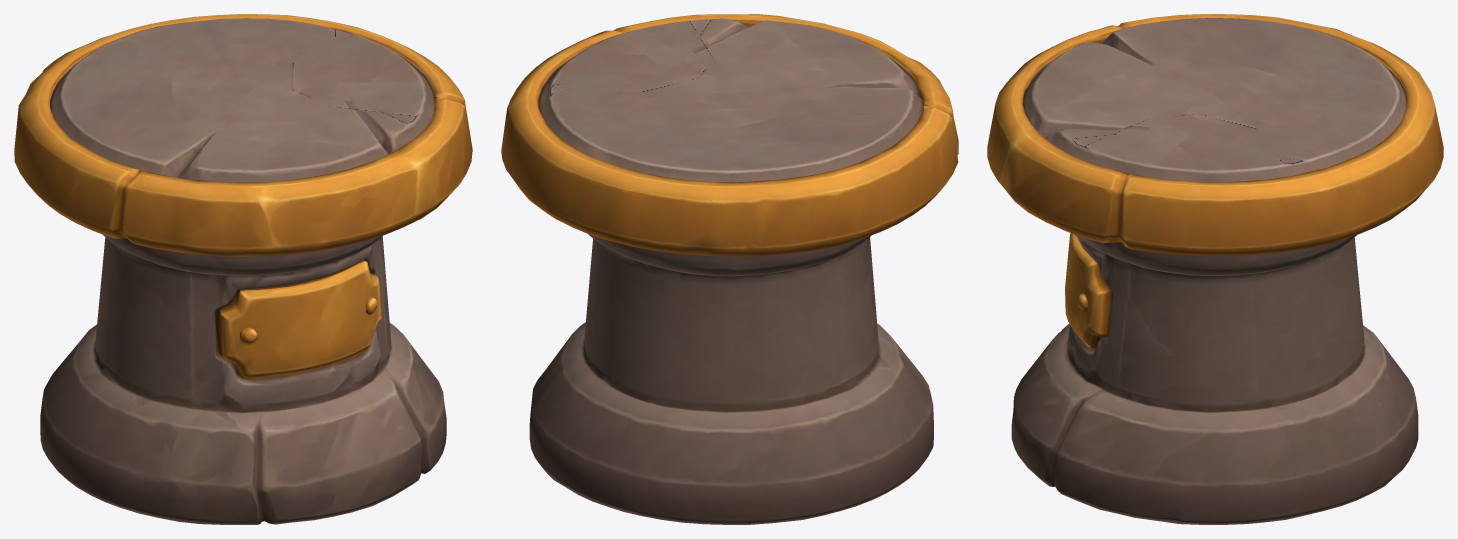
The model's file is aile_socle.glb.
The picture shows the model from 3 angles, left to right: view 1: azimuth 30°, elevation 25°; view 2: azimuth 150°, elevation 25°; view 3: azimuth 270°, elevation 25°; orthographic projection.
Parts seen in each view (by area): view 1: geometry_0; view 2: geometry_0; view 3: geometry_0.
Boxes of the visible parts, <box> form: geometry_0: <box>14,14,472,524</box>; geometry_0: <box>501,14,958,524</box>; geometry_0: <box>987,14,1443,524</box>.
Bounding box in the file's own units: 0.9478 × 0.7983 × 0.9482.
1 material, 1 textured.
